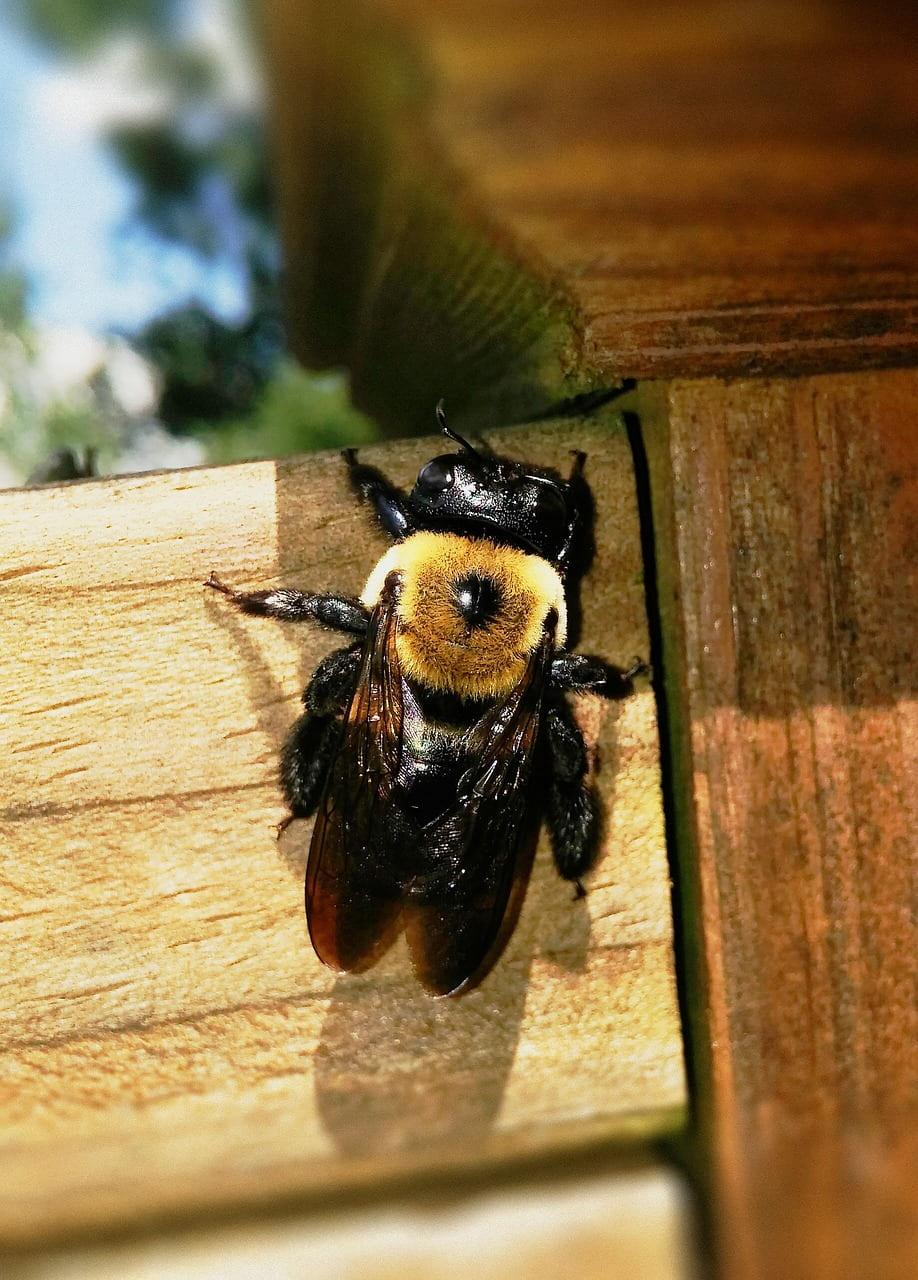Xylocopa: (183, 381, 663, 1048)
